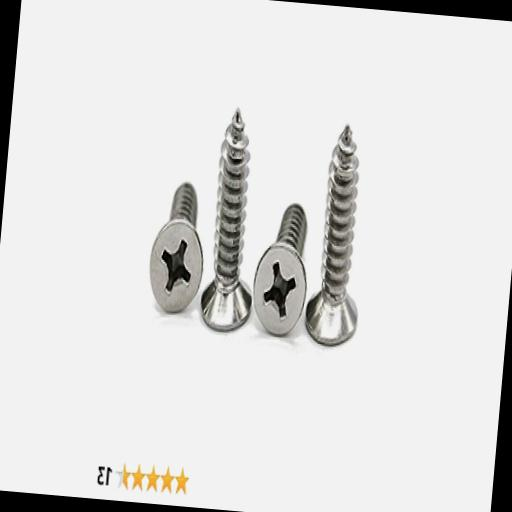Phillips: (146, 214, 207, 319), (250, 240, 311, 341)
